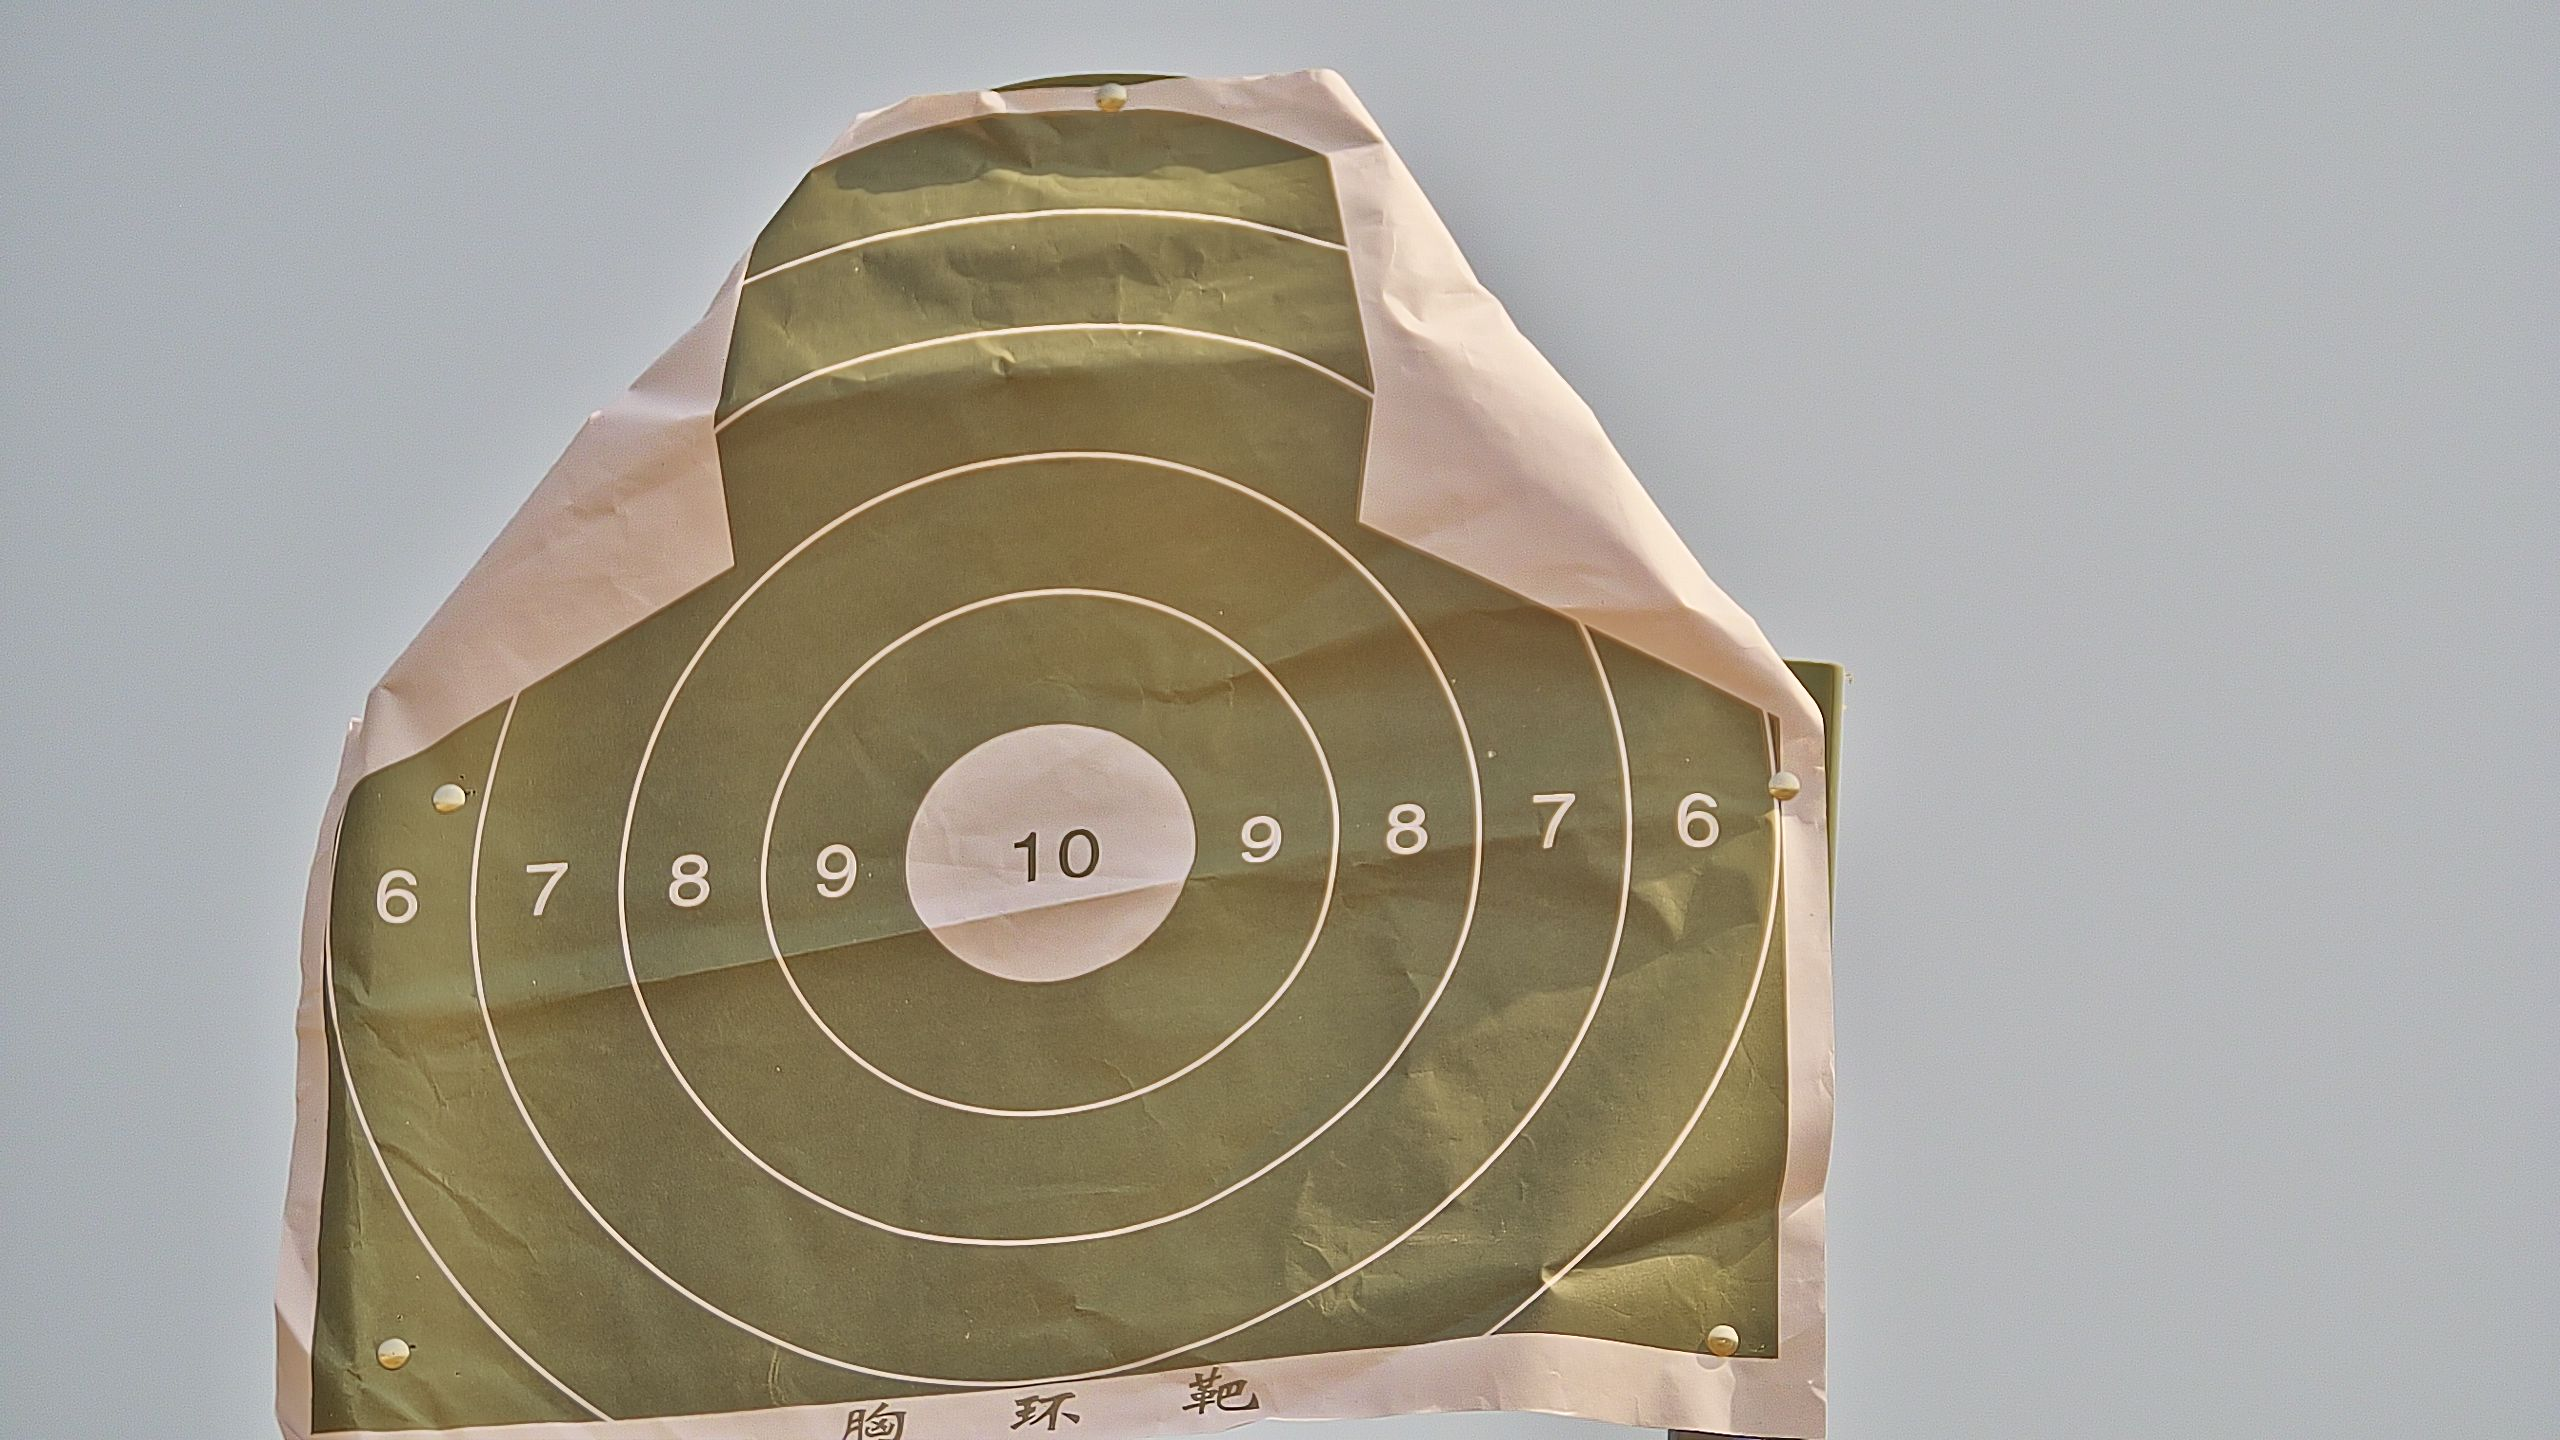target: (302, 111, 1793, 1440)
ten: (900, 717, 1197, 990)
